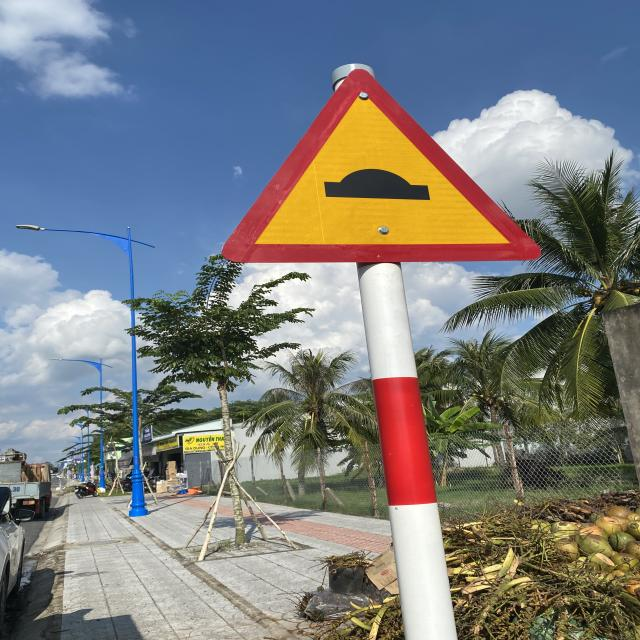Duong_Cong_Ben_Phai: (220, 71, 537, 263)
